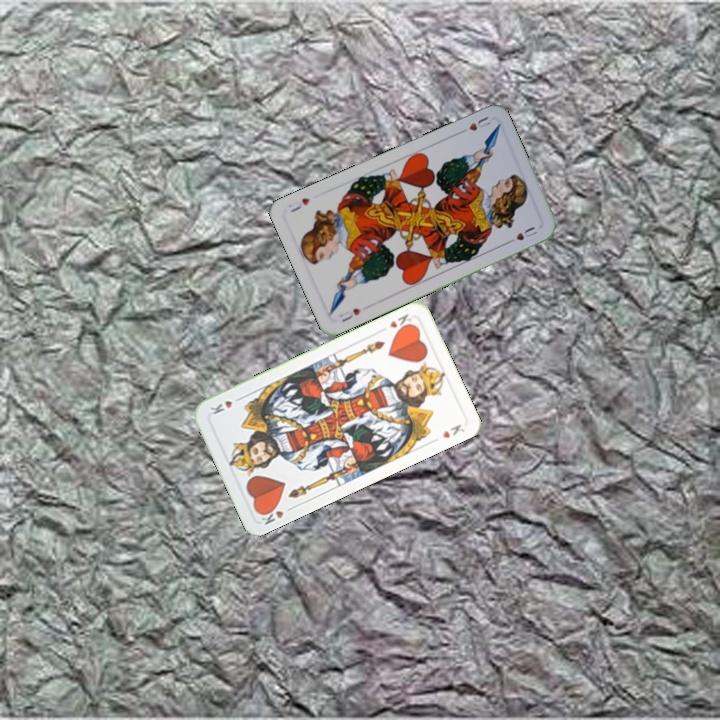HK: (256, 501, 296, 527), (385, 310, 416, 334)
HU: (455, 112, 495, 136), (335, 304, 364, 325)
